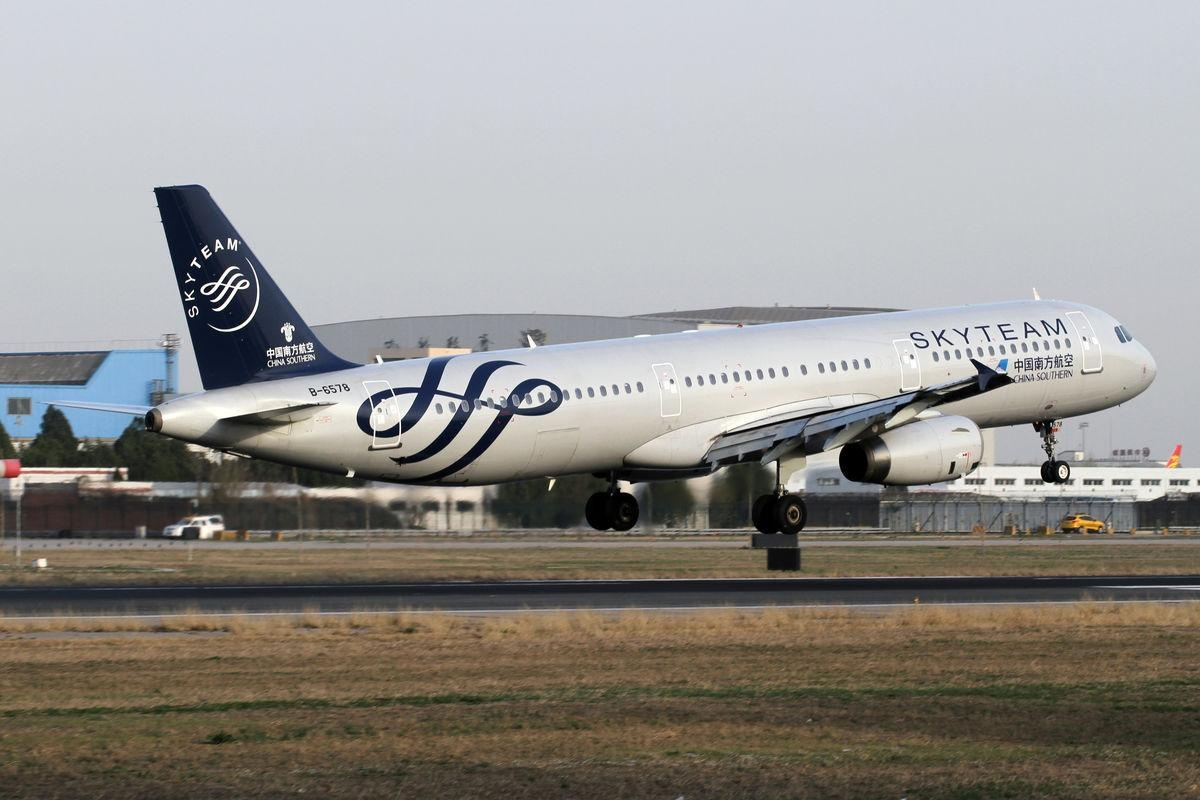airplane: (36, 178, 1174, 543)
